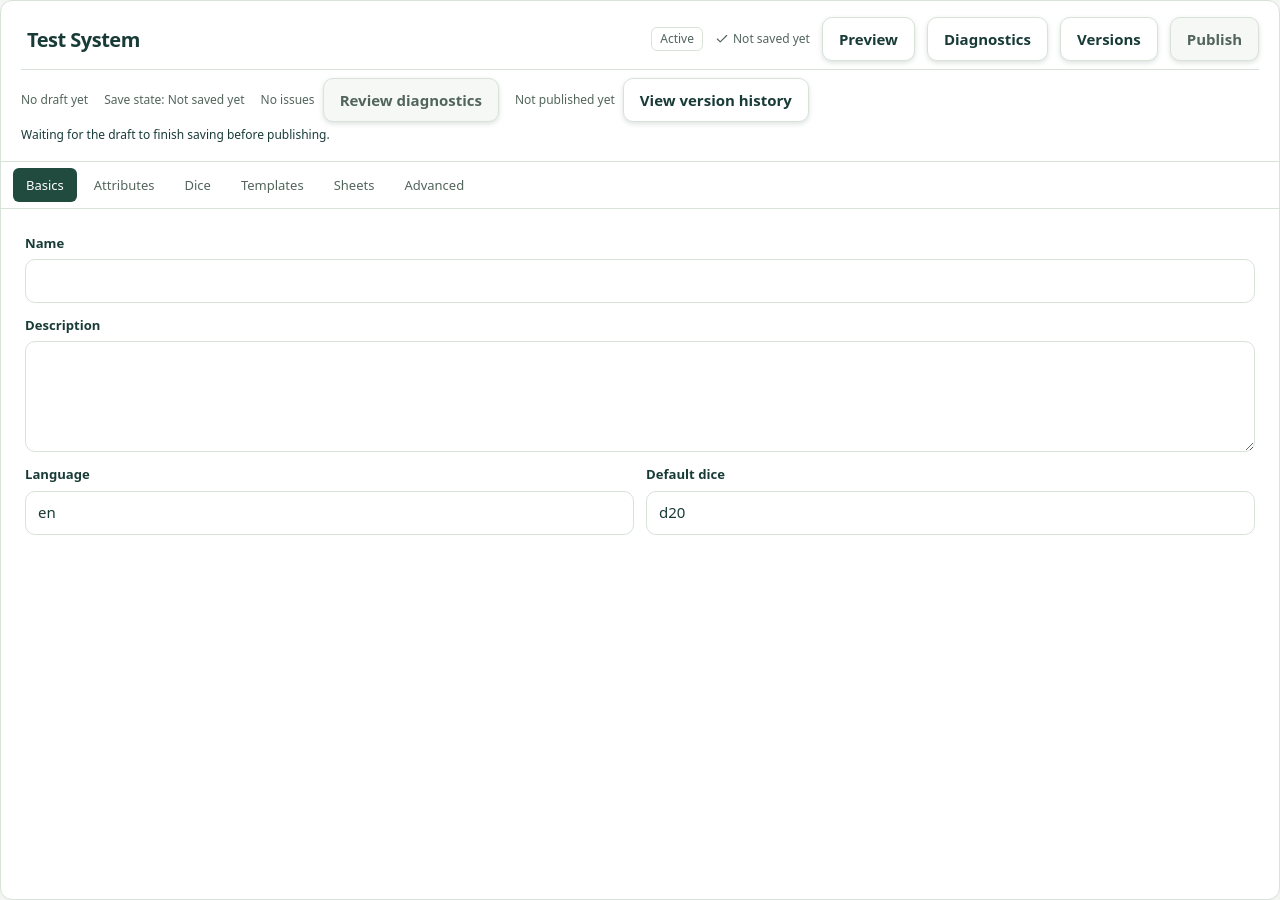
basics-first creator workflow (G5 task 2) › advanced controls sit behind a labeled disclosure and never block basics
Expected: the field with test id "metadata-name" is shown, left=25, top=259, right=1255, bottom=303
Click the link "Advanced".
click(434, 185)  # box left=404, top=176, right=464, bottom=194
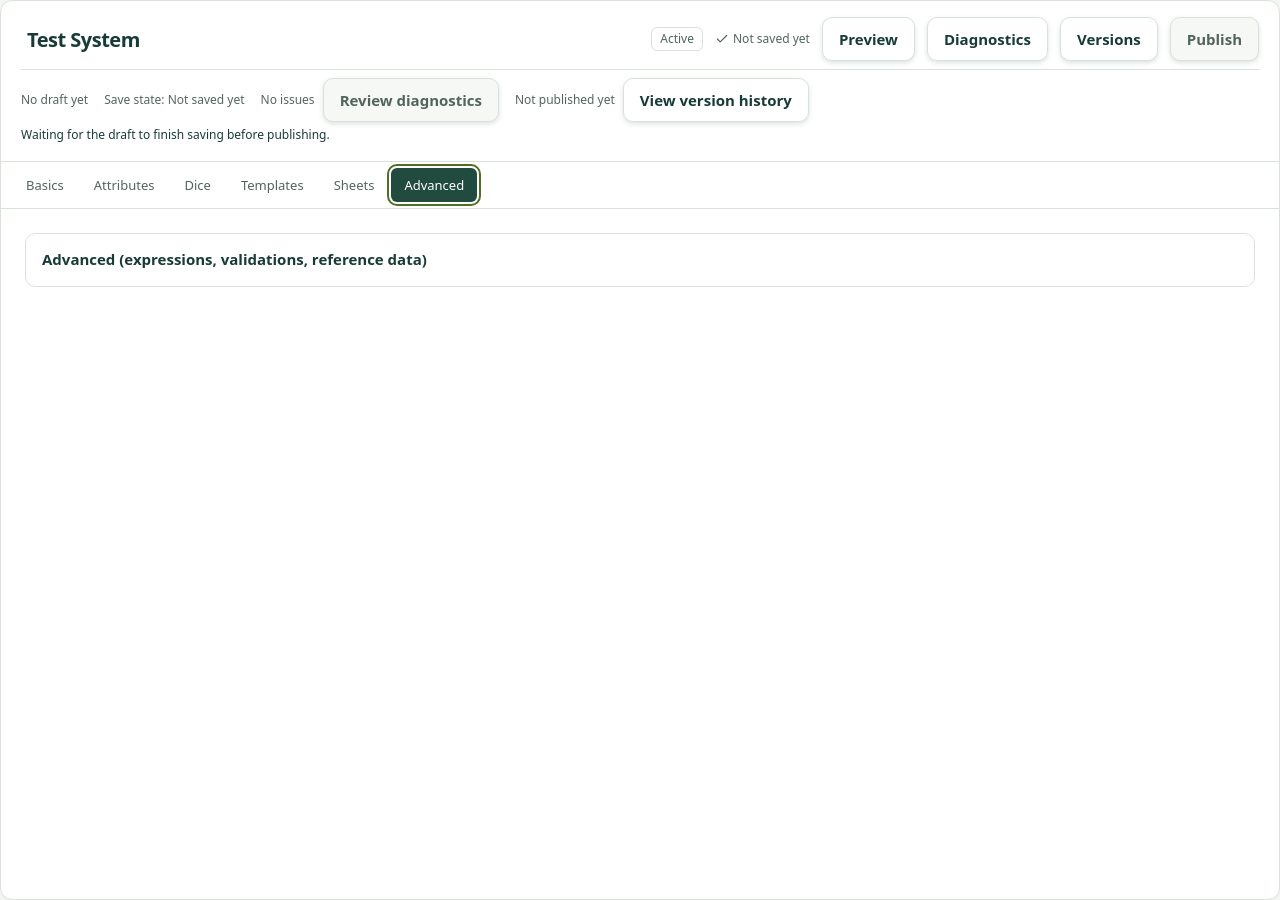
Result: the heading "Advanced (expressions, validations, reference data)" is shown
Expanding reveals validations + reference data + expression editors.
Click the heading with test id "advanced-disclosure-toggle".
click(234, 259)  # box left=42, top=249, right=427, bottom=269
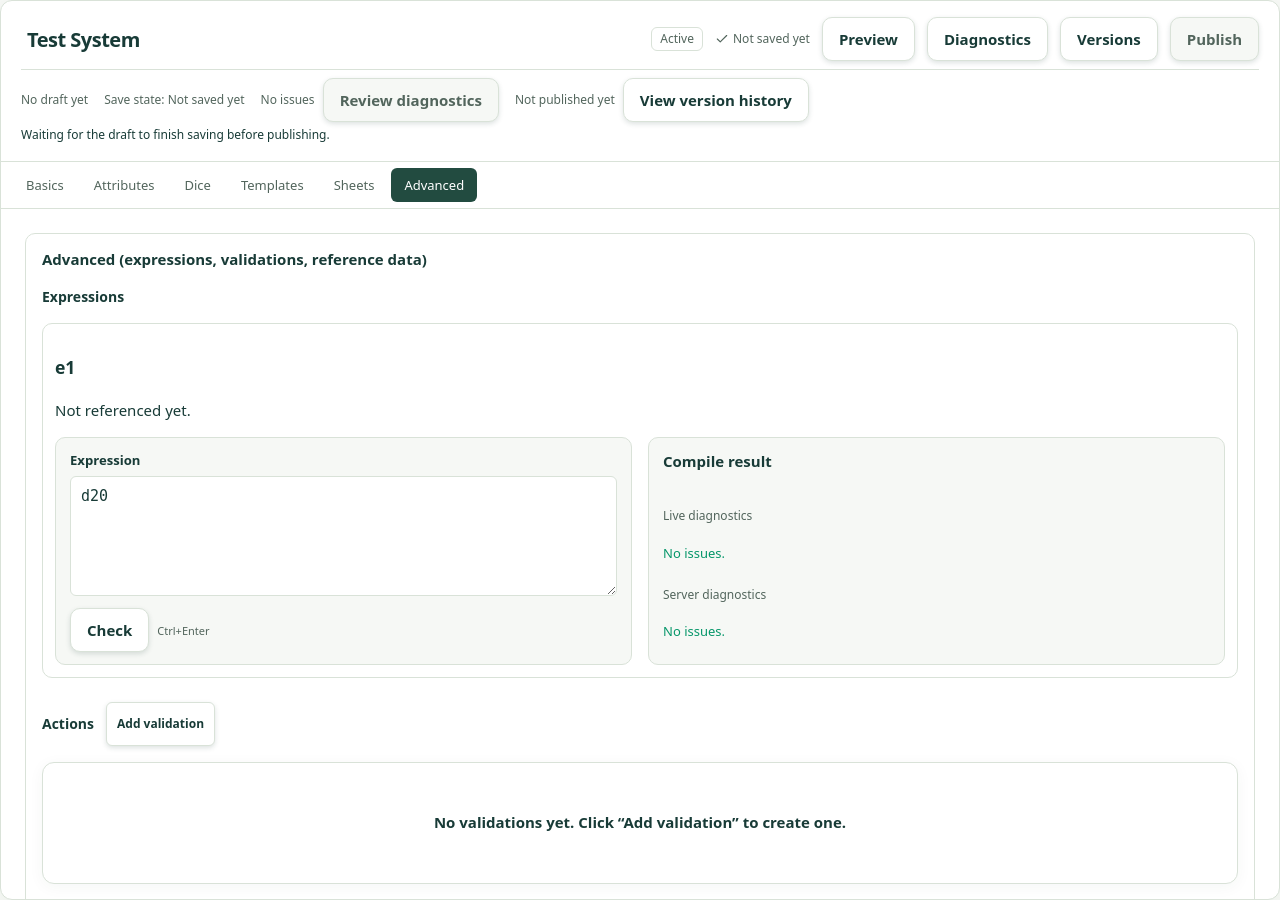
Result: the element with test id "validations-tab" is shown at left=42, top=702, right=1238, bottom=884
Result: the text box with test id "expression-editor-source" holds "d20" at left=70, top=476, right=617, bottom=596
Click the heading with test id "advanced-disclosure-toggle".
click(234, 259)  # box left=42, top=249, right=427, bottom=269
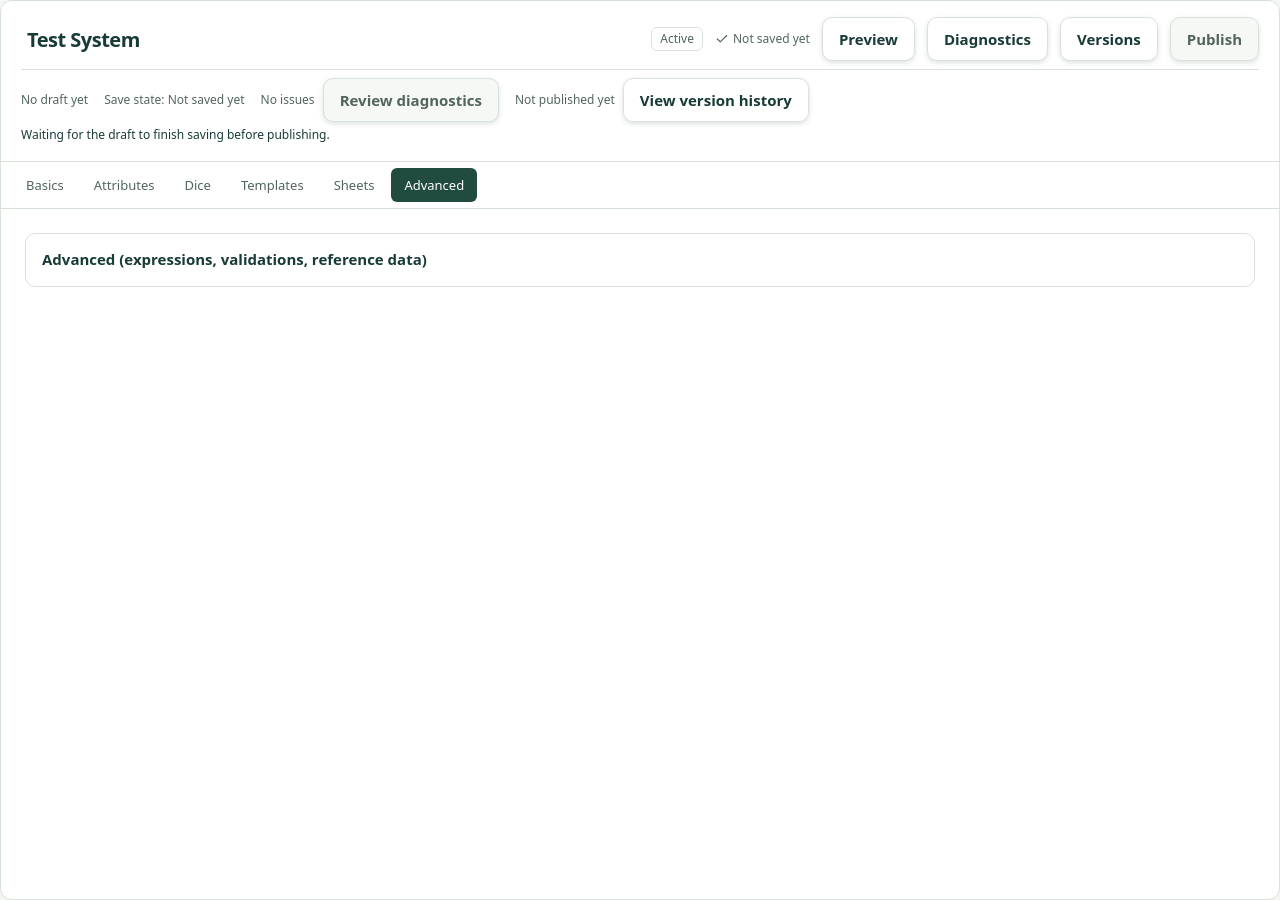
Result: the element with test id "validations-tab" is gone
Click the link "Basics".
click(45, 185)  # box left=26, top=176, right=64, bottom=194
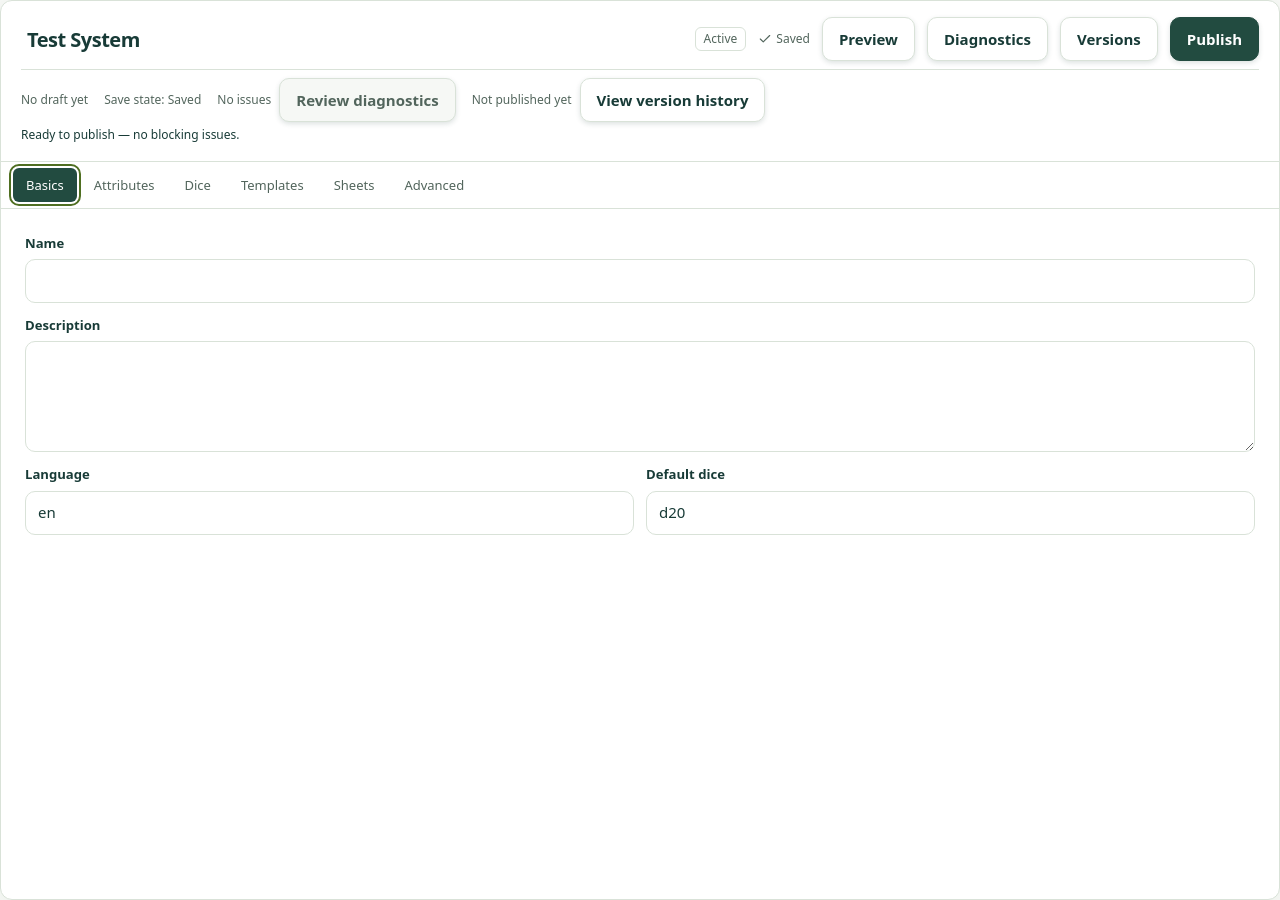
Result: the field with test id "metadata-name" is shown at left=25, top=259, right=1255, bottom=303
